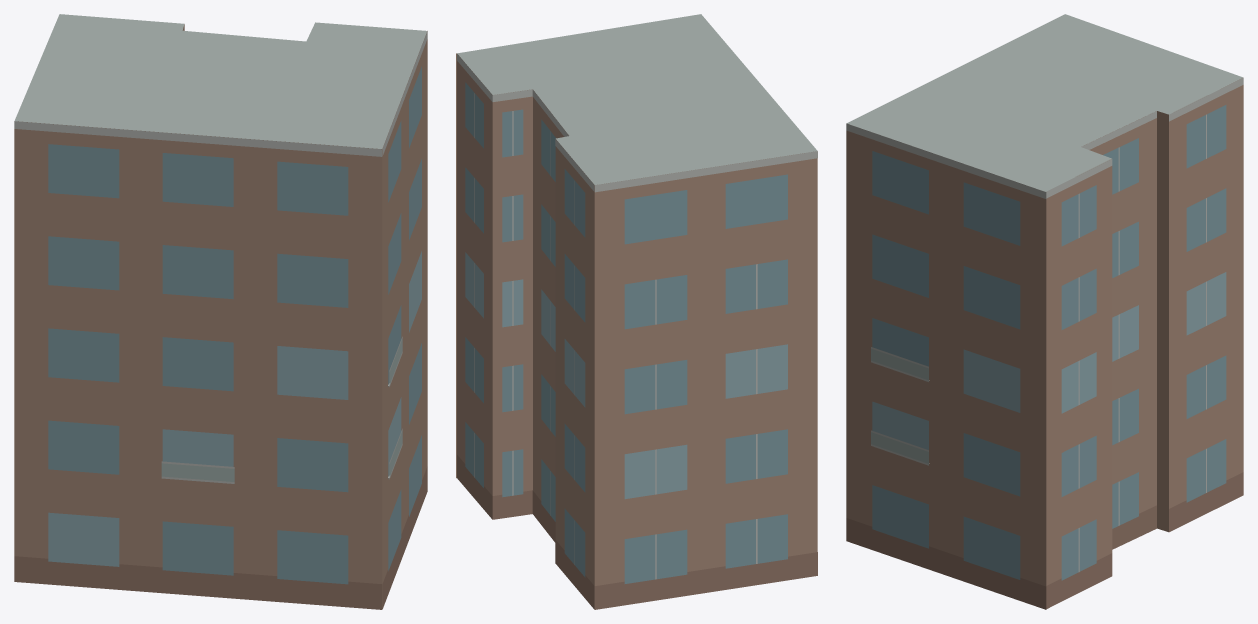
File: survey-upis-32611606.glb
The picture shows the model from 3 angles, left to right: view 1: azimuth 30°, elevation 25°; view 2: azimuth 150°, elevation 25°; view 3: azimuth 270°, elevation 25°; orthographic projection. The views are drawn at different scales.
Parts seen in each view (by area): view 1: survey-upis-32611606.tmp; view 2: survey-upis-32611606.tmp; view 3: survey-upis-32611606.tmp.
Part boxes in pixels (<box>): survey-upis-32611606.tmp: <box>14,14,427,609</box>; survey-upis-32611606.tmp: <box>456,14,817,609</box>; survey-upis-32611606.tmp: <box>846,14,1243,609</box>.
Bounding box in the file's own units: 13.18 × 14.4 × 12.42.
